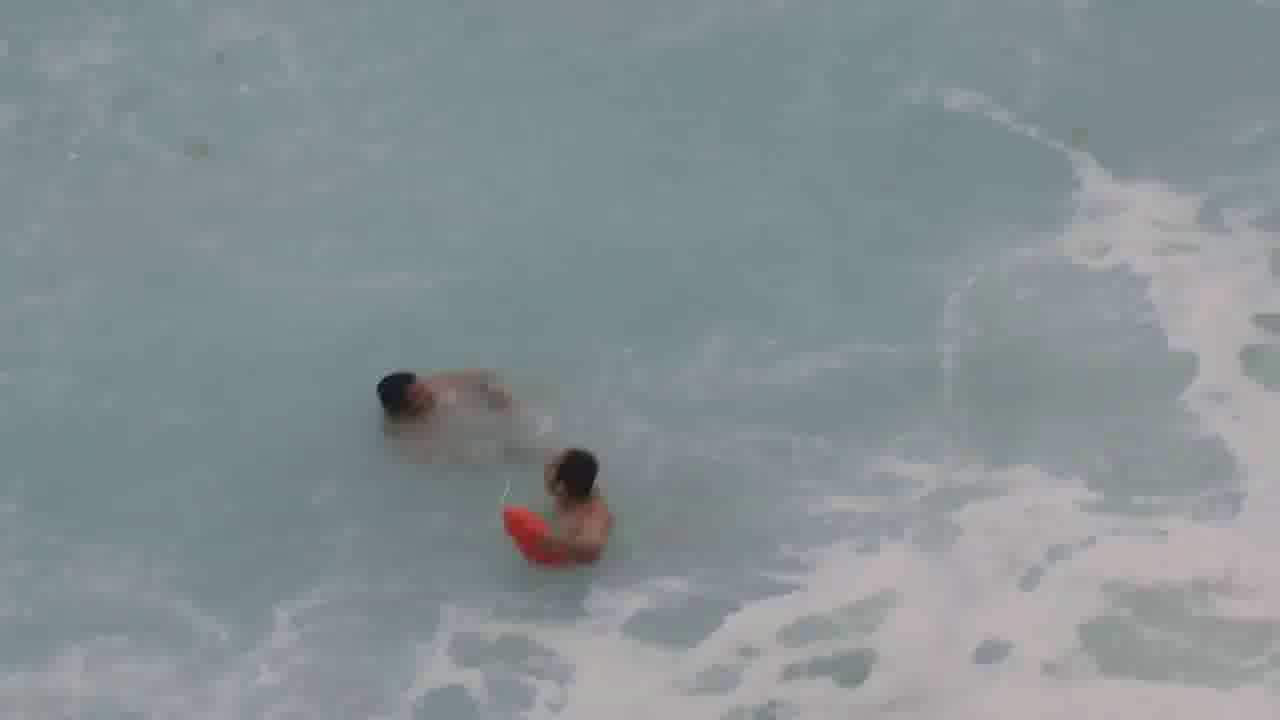human: (357, 343, 524, 463), (498, 435, 622, 571)
